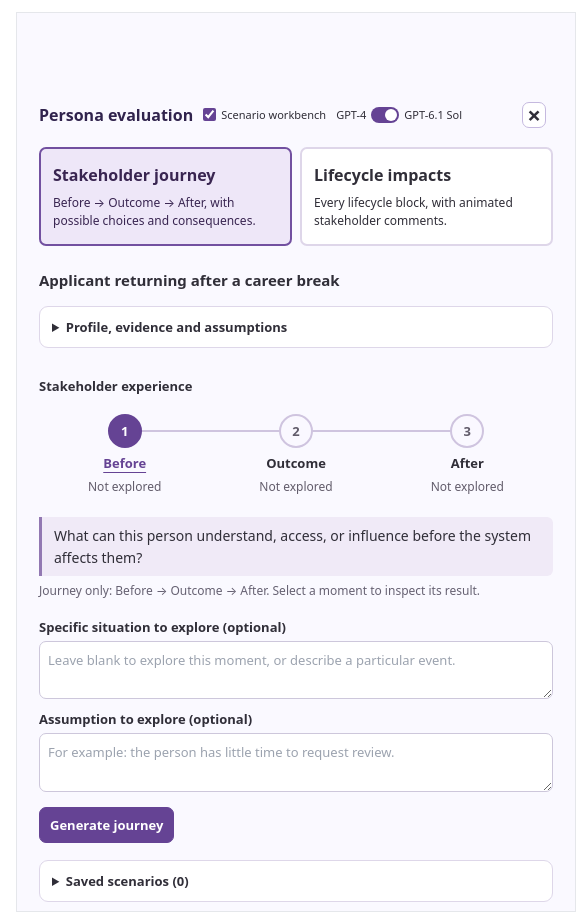
Test: requests every stage, retains parsed trace and renders playback controls
Click the button "Lifecycle impacts Every" at (426, 196), box [300, 147, 553, 246]
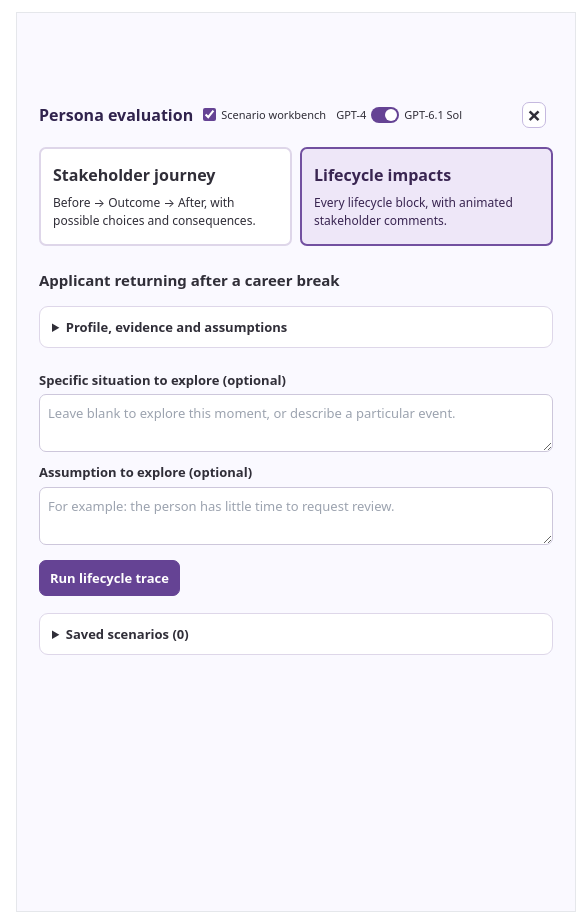
Click the button "Run lifecycle trace" at (110, 578), box [39, 560, 180, 596]
(page scrolled)
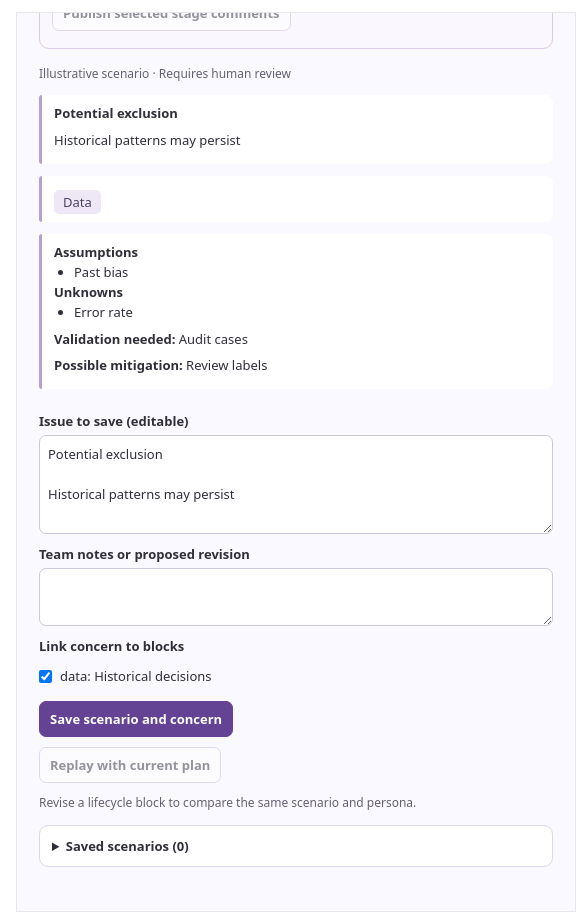
Now the text "Potential exclusion" is shown, box [54, 104, 178, 122]
Click the button "Save scenario and concern" at (136, 719), box [39, 701, 233, 737]
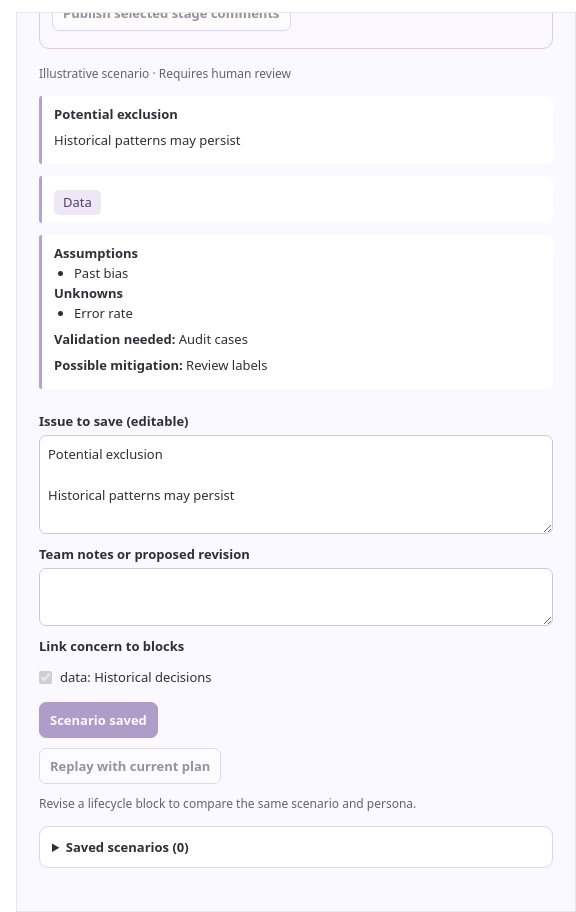
Now the button "Scenario saved" is shown, box [39, 702, 158, 738]
